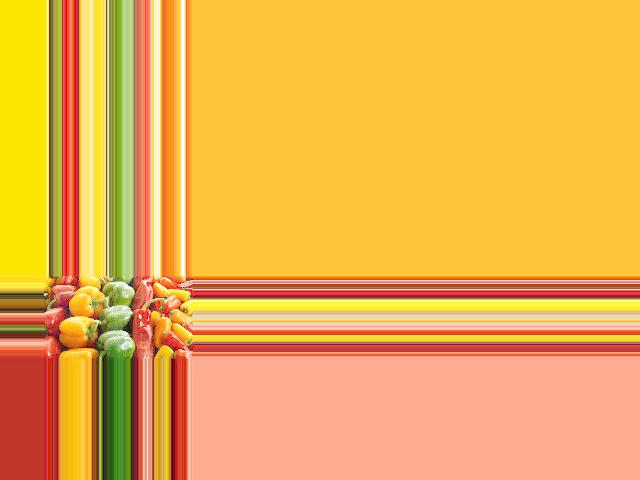bell_pepper: (161, 330, 188, 352)
